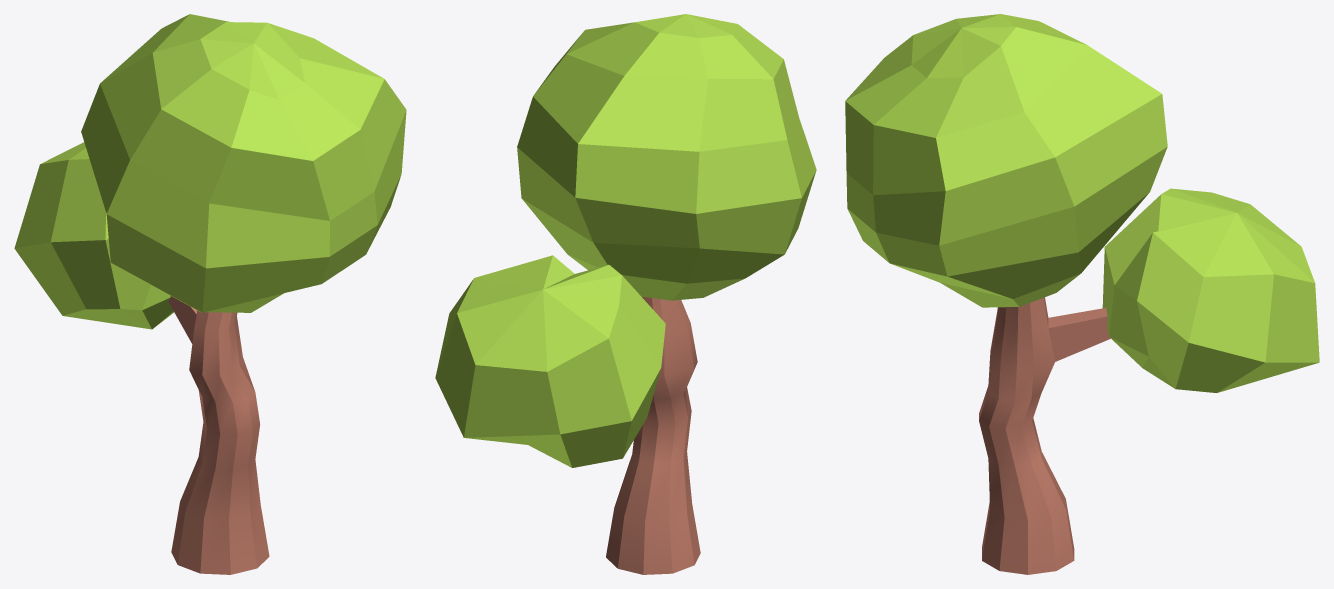
The model's file is tree01.fbx.
3 renders of one model, left to right at view 1: azimuth 30°, elevation 25°; view 2: azimuth 150°, elevation 25°; view 3: azimuth 270°, elevation 25°, orthographic. The views are drawn at different scales.
Visible parts, largest first — view 1: pSphere2, pCylinder1, group1; view 2: pSphere2, group1, pCylinder1; view 3: pSphere2, group1, pCylinder1.
Part boxes in pixels (x1,y1,x2,y2): pSphere2: (81,14,406,312); pCylinder1: (168,296,269,574); group1: (14,142,173,329); pSphere2: (517,14,816,300); group1: (435,255,665,467); pCylinder1: (606,296,700,574); pSphere2: (845,14,1167,307); group1: (1102,188,1319,392); pCylinder1: (979,297,1110,574).
Size of the model in its own units: 235 by 434 by 354.
